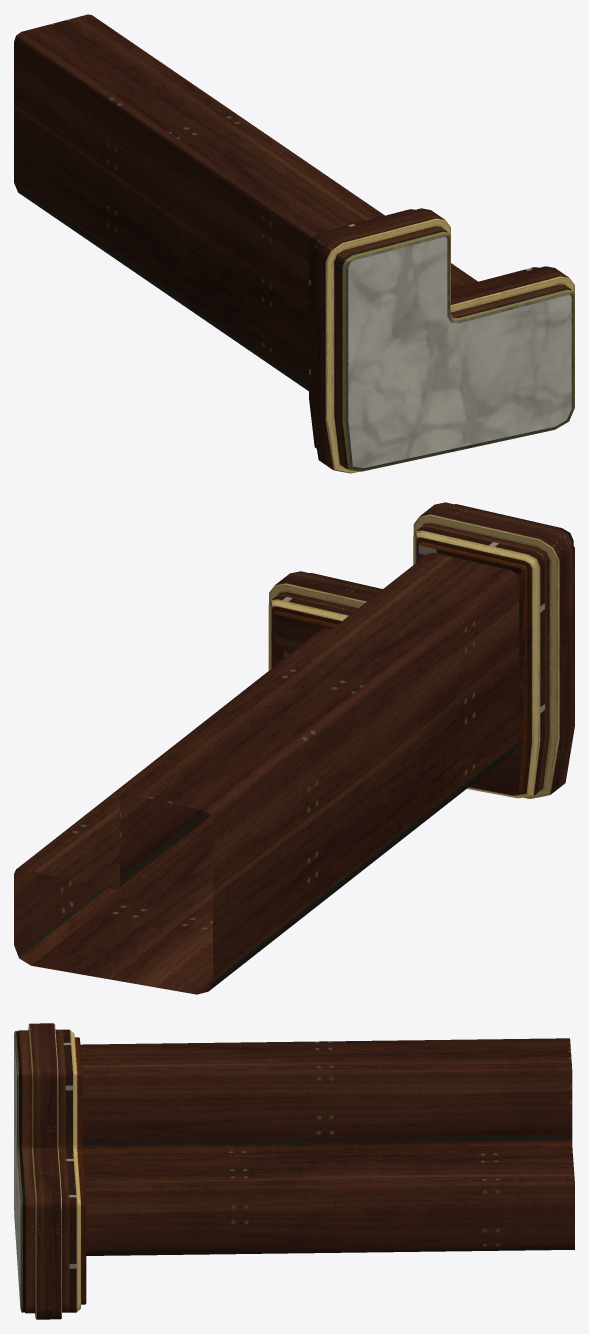
Rendered from bench.obj.
The picture shows the model from 3 angles, top to bottom: view 1: azimuth 30°, elevation 25°; view 2: azimuth 150°, elevation 25°; view 3: azimuth 270°, elevation 25°; orthographic projection. The views are drawn at different scales.
Parts seen in each view (by area): view 1: BENCH polySurface4group37group35, group37group35polySurface3 BENCH; view 2: BENCH polySurface4group37group35, group37group35polySurface3 BENCH; view 3: BENCH polySurface4group37group35, group37group35polySurface3 BENCH.
Part boxes in pixels (x1,y1,x2,y2): BENCH polySurface4group37group35: (14, 14, 477, 390); group37group35polySurface3 BENCH: (309, 208, 574, 473); BENCH polySurface4group37group35: (14, 552, 519, 994); group37group35polySurface3 BENCH: (268, 502, 574, 798); BENCH polySurface4group37group35: (80, 1038, 574, 1255); group37group35polySurface3 BENCH: (14, 1023, 86, 1319).
Size of the model in its own units: 6.21 by 5.63 by 13.87.
